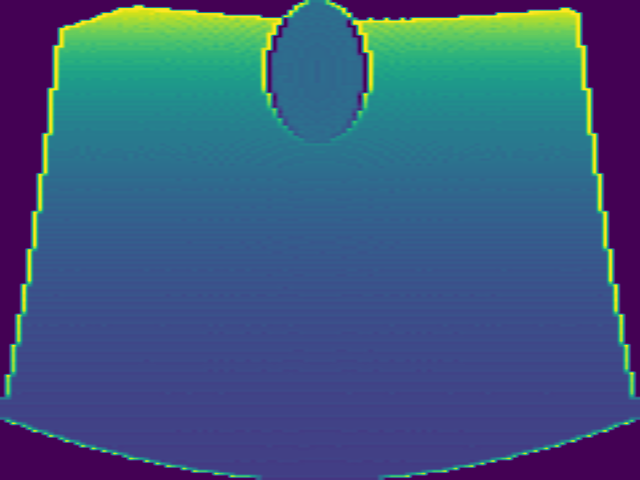sphere: (261, 1, 372, 145)
